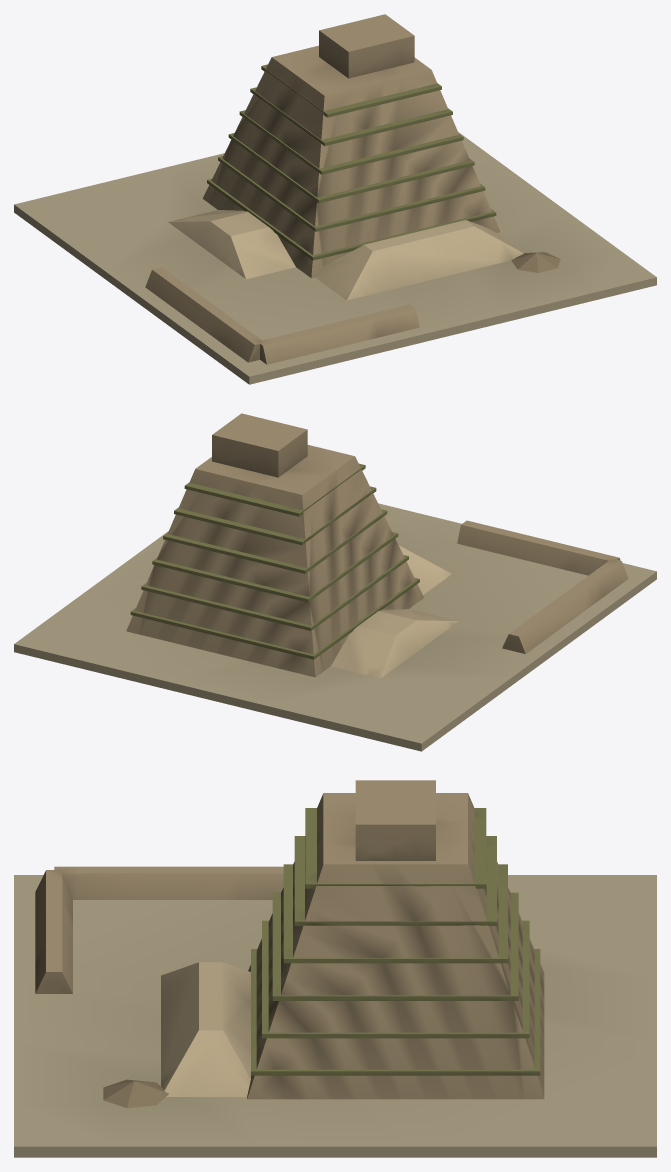
File: beacon-ruin.glb
3 views of the same model, one above another, from view 1: azimuth 30°, elevation 25°; view 2: azimuth 150°, elevation 25°; view 3: azimuth 270°, elevation 25° (orthographic). The views are drawn at different scales.
Parts seen in each view (by area): view 1: p0_tower, p1_debris, p2_scrub; view 2: p0_tower, p1_debris; view 3: p0_tower, p1_debris, p2_scrub.
Boxes of the visible parts, x1,y1,x2,y2 form: p0_tower: [14, 14, 656, 384]; p1_debris: [145, 210, 523, 364]; p2_scrub: [511, 252, 560, 272]; p0_tower: [14, 413, 656, 751]; p1_debris: [331, 520, 628, 678]; p0_tower: [14, 780, 656, 1157]; p1_debris: [35, 866, 283, 1096]; p2_scrub: [103, 1079, 168, 1108].
Bounding box in the file's own units: 16 × 7 × 16.
